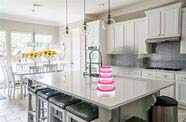copymove: (69, 10, 122, 88)
removal: (51, 96, 72, 111)
spliced: (1, 113, 34, 122)
